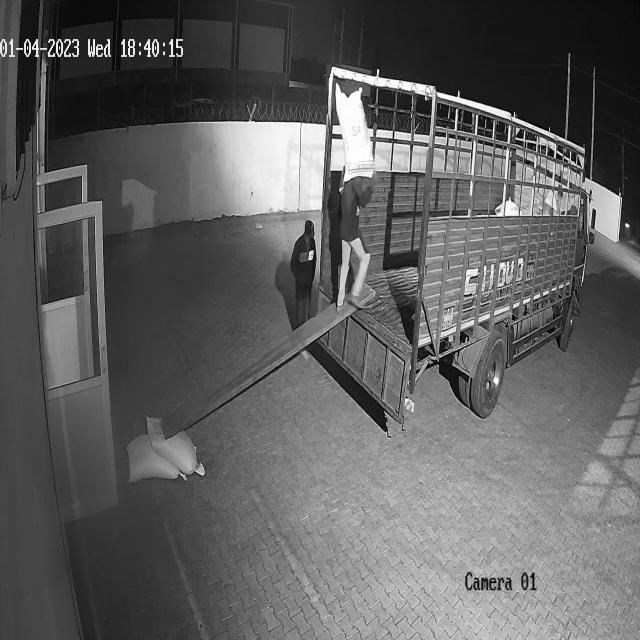sack: (336, 84, 373, 183), (145, 415, 197, 475), (127, 432, 179, 482)
